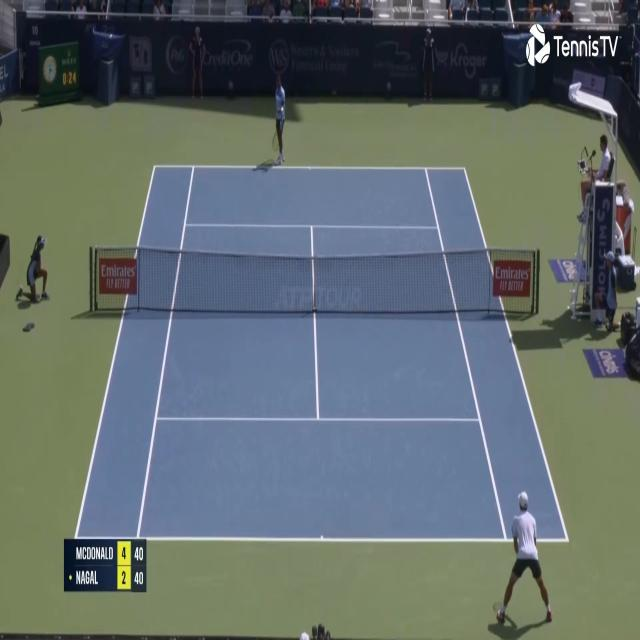tennis-player: (491, 488, 555, 634), (271, 70, 286, 166)
